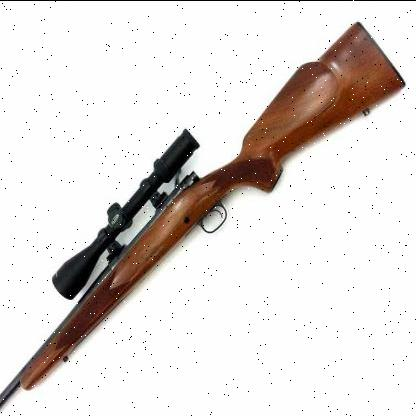rifle: (0, 5, 413, 416)
